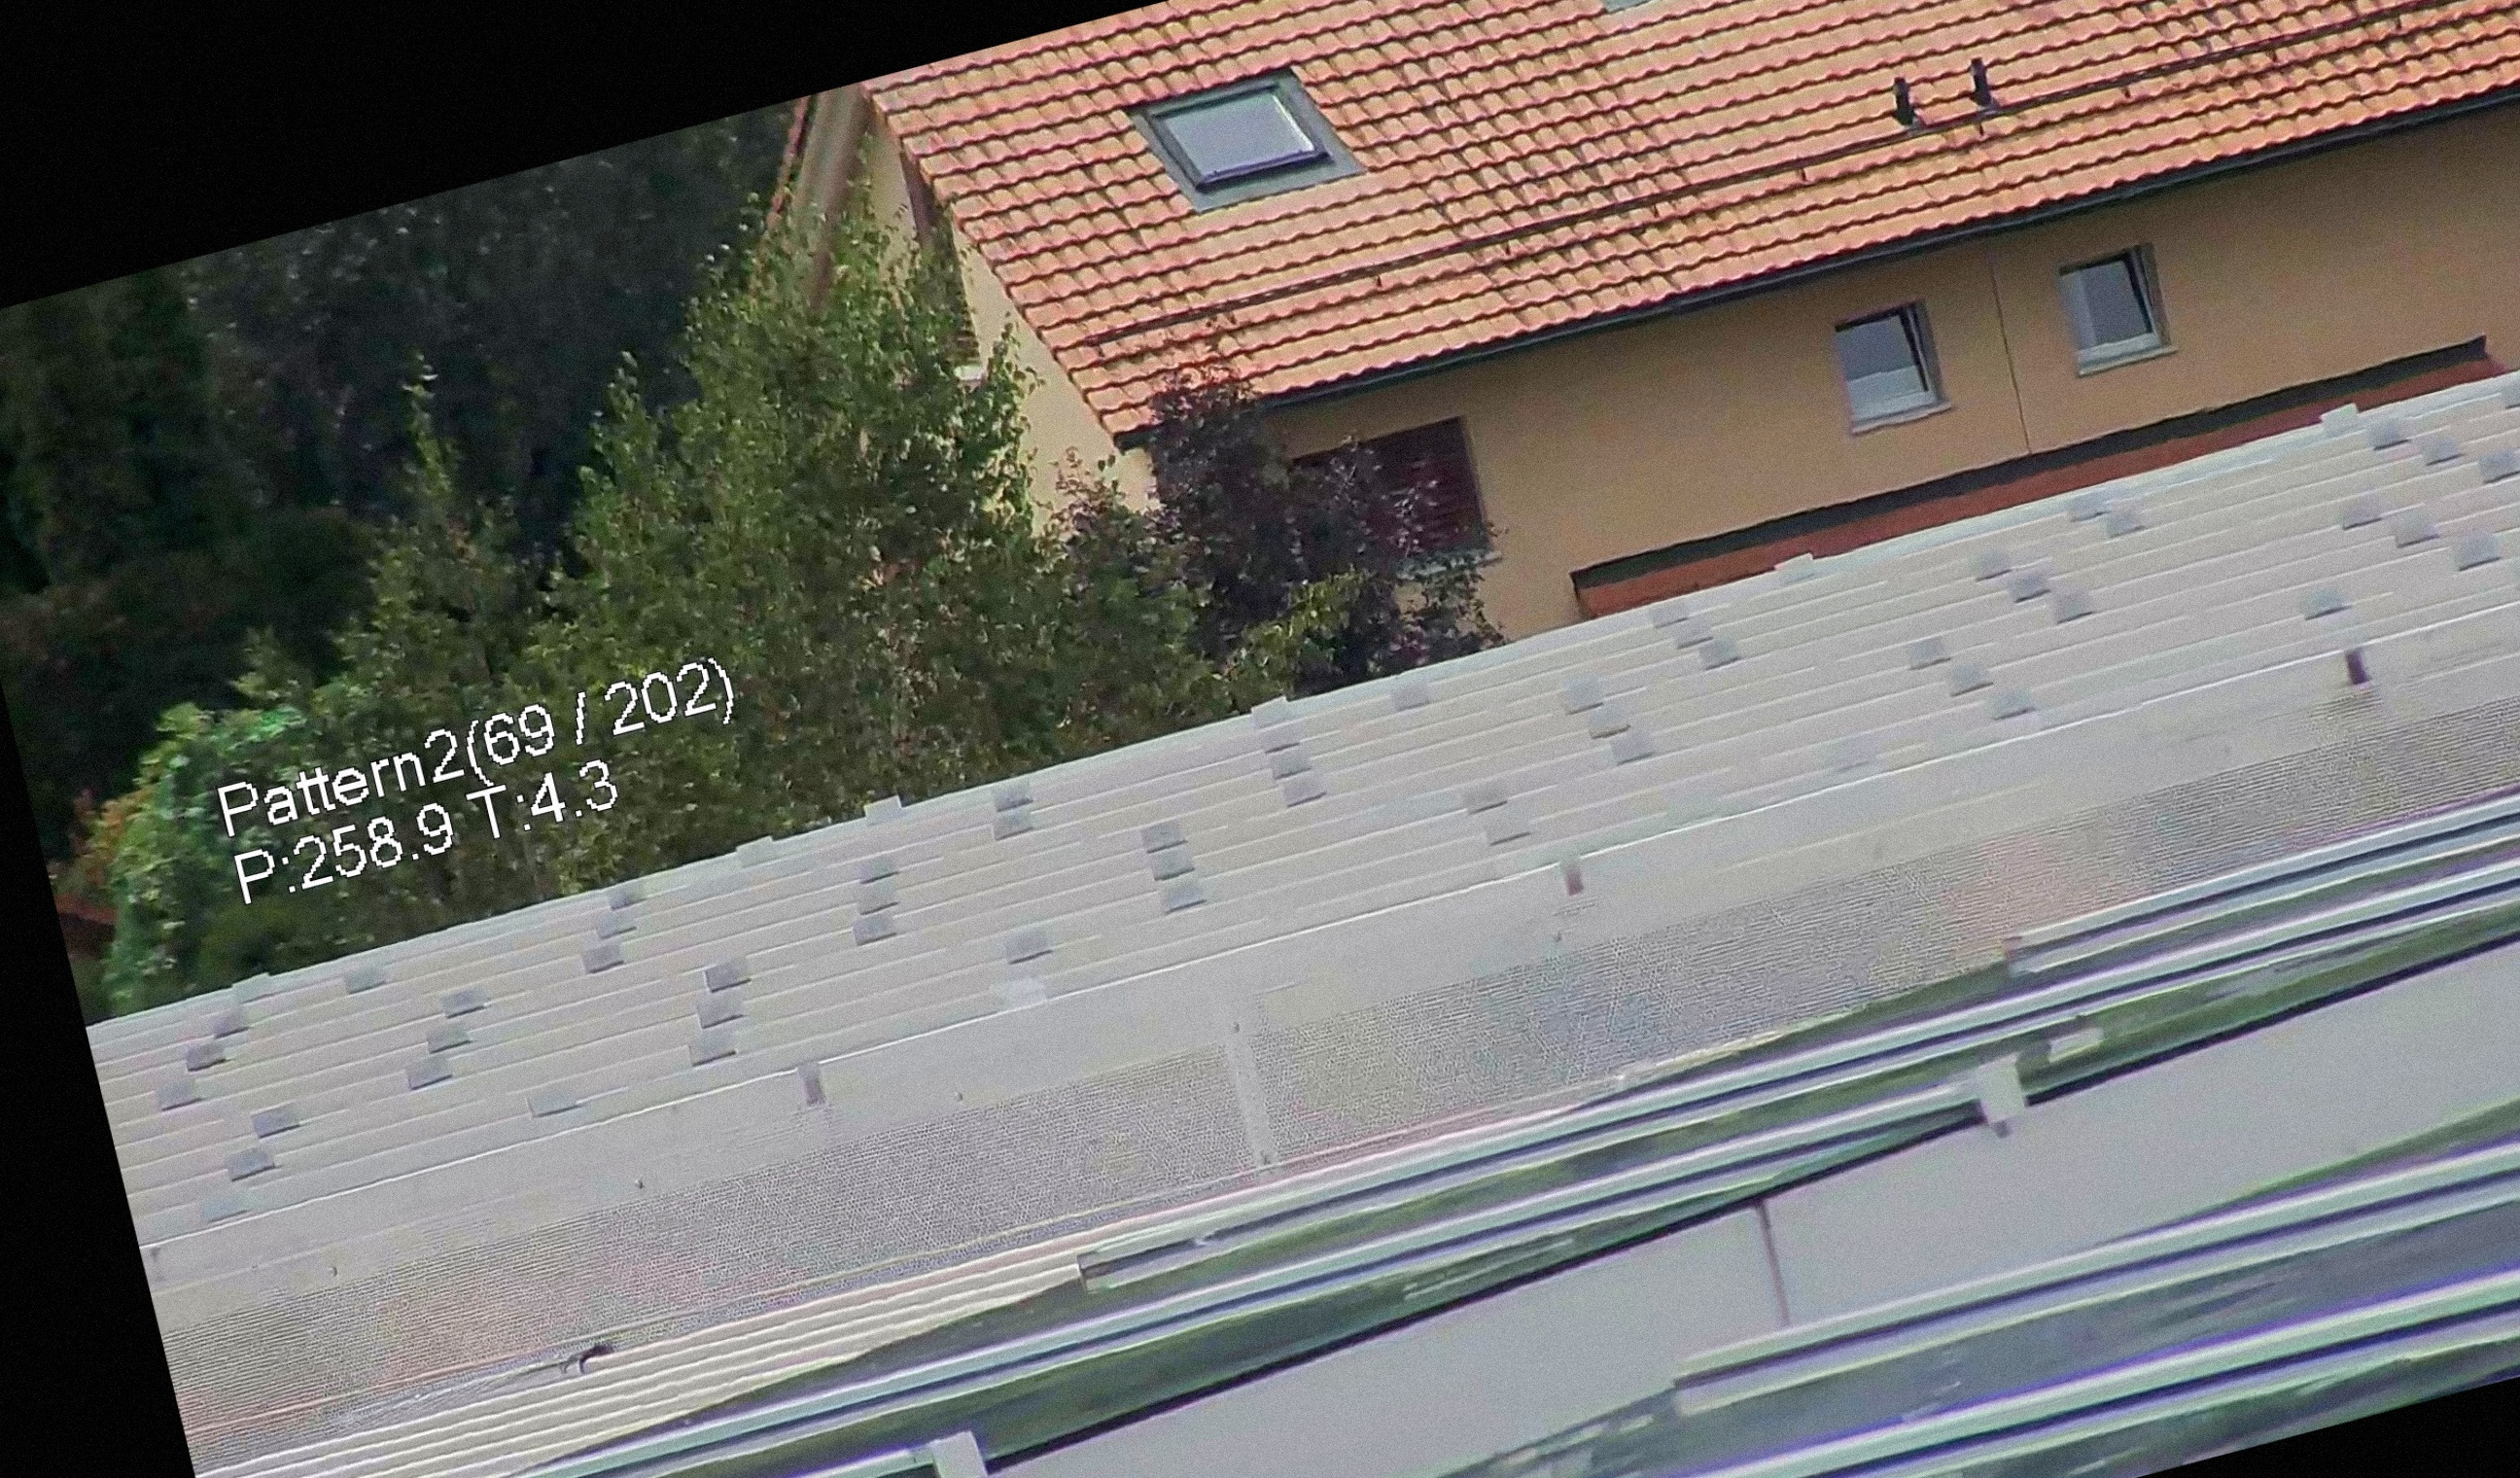Other: (1948, 33, 2019, 114)
